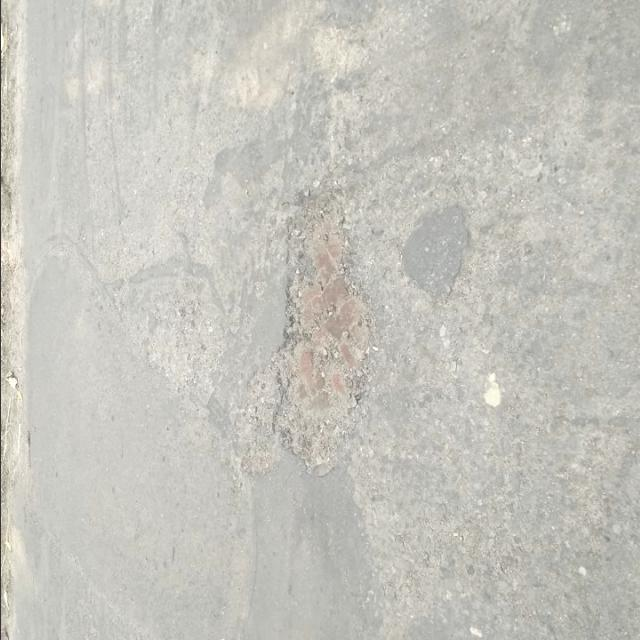pothole: (222, 171, 408, 493)
